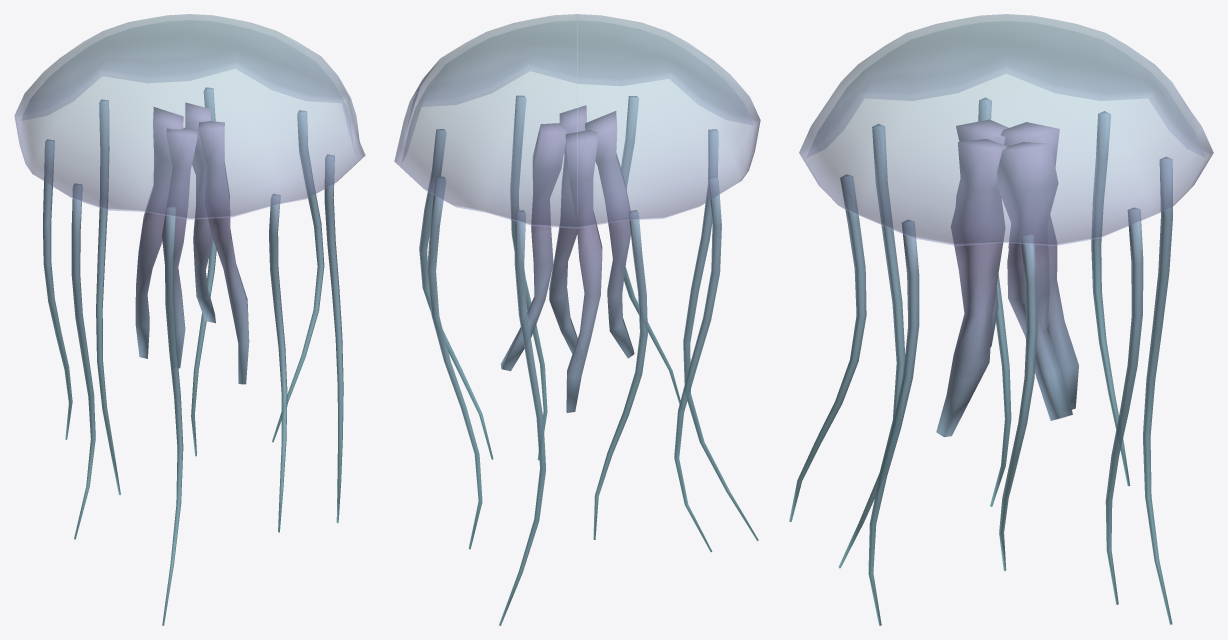
Rendered from jellyfish.glb.
The picture shows the model from 3 angles, left to right: view 1: azimuth 30°, elevation 25°; view 2: azimuth 150°, elevation 25°; view 3: azimuth 270°, elevation 25°; orthographic projection. The views are drawn at different scales.
Visible parts, largest first — view 1: jellyfish.001; view 2: jellyfish.001; view 3: jellyfish.001.
Part boxes in pixels (x1,y1,x2,y2): jellyfish.001: (14,14,365,625); jellyfish.001: (394,14,760,625); jellyfish.001: (789,14,1213,625).
Size of the model in its own units: 2.21 by 3.44 by 2.27.
